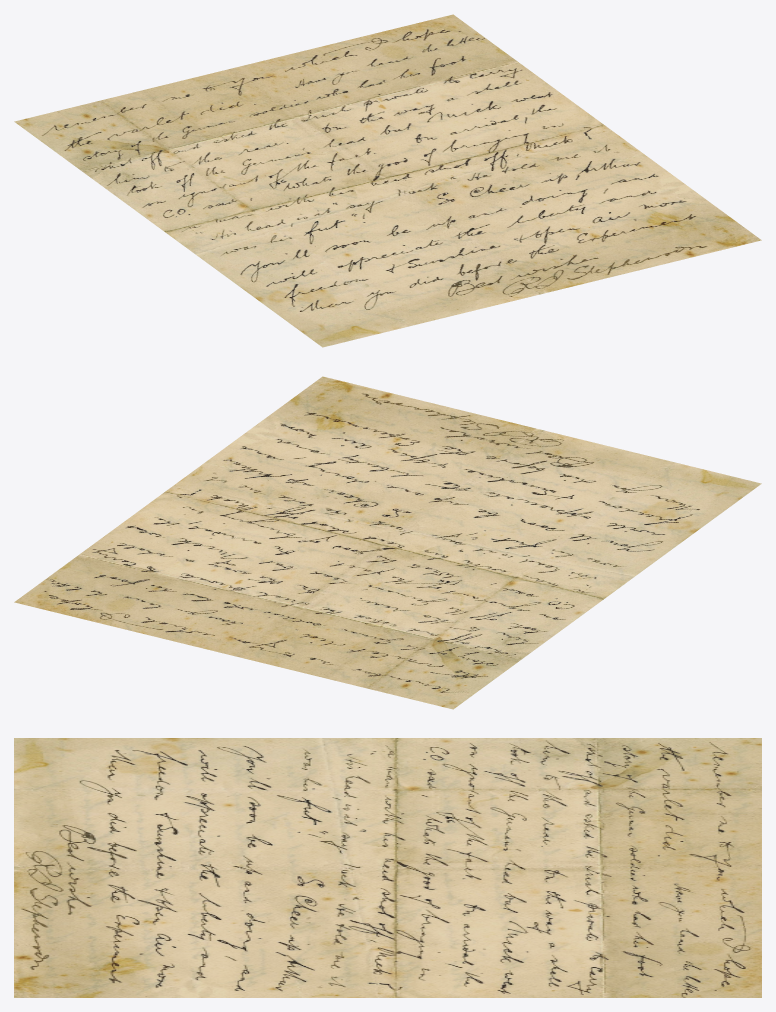
Rendered from Letter.FBX.
The picture shows the model from 3 angles, top to bottom: view 1: azimuth 30°, elevation 25°; view 2: azimuth 150°, elevation 25°; view 3: azimuth 270°, elevation 25°; orthographic projection. The views are drawn at different scales.
Parts seen in each view (by area): view 1: Plane001; view 2: Plane001; view 3: Plane001.
Part boxes in pixels (<box>): Plane001: <box>14,14,761,347</box>; Plane001: <box>14,376,761,709</box>; Plane001: <box>14,738,761,997</box>.
Size of the model in its own units: 5.73 by 4.27e-16 by 6.97.
Materials: 1 (1 with a texture image).
